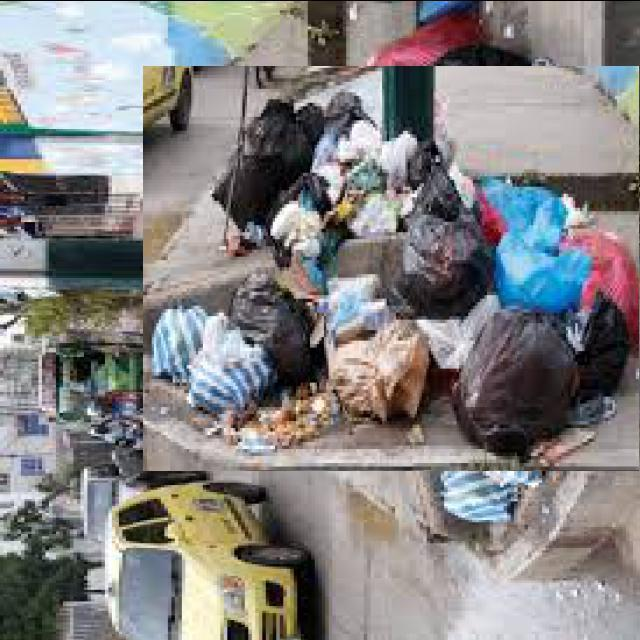Trashbag: (204, 94, 326, 235), (454, 317, 577, 455), (392, 166, 503, 316), (220, 272, 322, 374), (567, 298, 629, 398)
